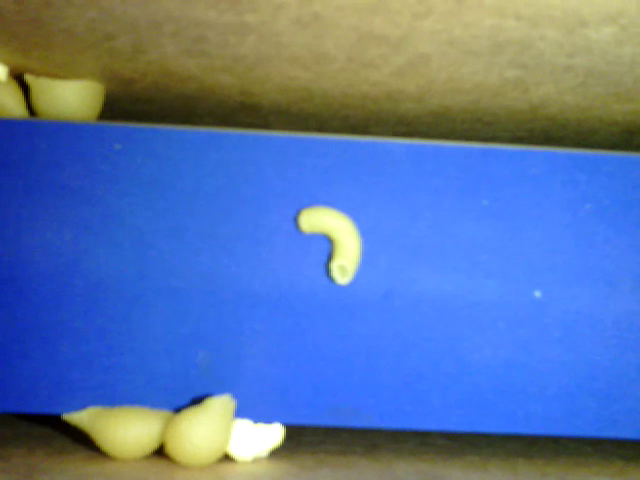elbow: (292, 203, 363, 286)
shell: (57, 405, 173, 462), (162, 390, 240, 467), (21, 72, 108, 129)
